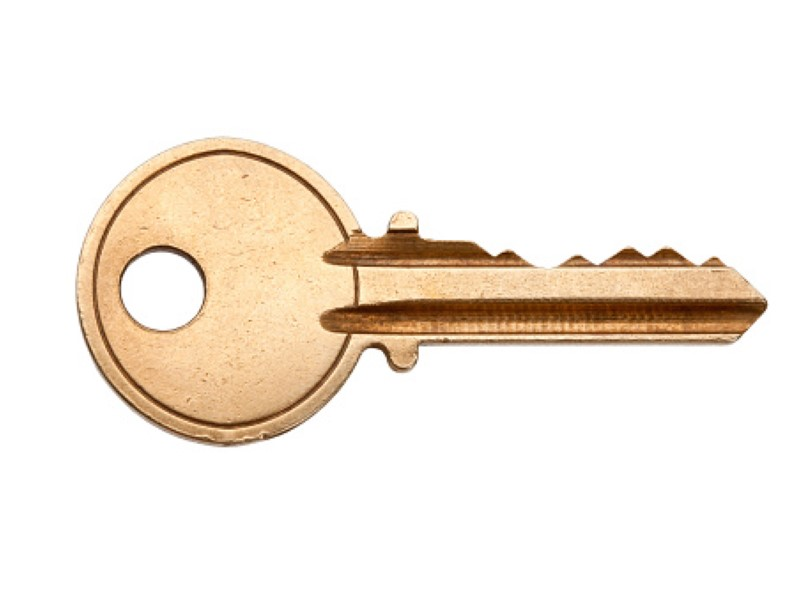key: (71, 131, 767, 455)
